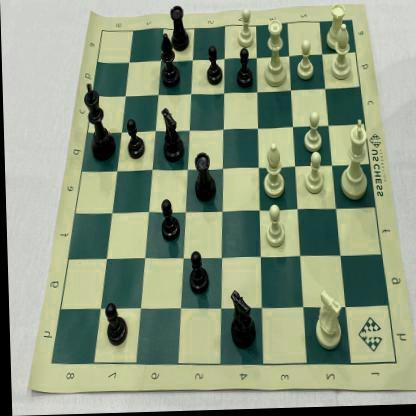black-bishop: (158, 31, 180, 90)
black-king: (80, 78, 118, 166)
black-knight: (224, 284, 256, 354), (156, 102, 185, 168)
black-pawn: (182, 248, 210, 300), (101, 296, 128, 348), (156, 192, 181, 246), (124, 114, 148, 163), (201, 44, 226, 90), (234, 46, 256, 92)
black-rook: (188, 144, 219, 210), (166, 0, 192, 56)
white-bishop: (258, 140, 288, 206), (326, 20, 354, 88)
white-king: (334, 118, 376, 206)
white-knight: (308, 288, 346, 356)
white-pawn: (260, 200, 288, 254), (300, 150, 326, 200), (292, 37, 317, 86), (234, 5, 258, 52), (302, 108, 324, 156)
white-queen: (260, 15, 288, 92)
white-rook: (322, 1, 350, 55)
